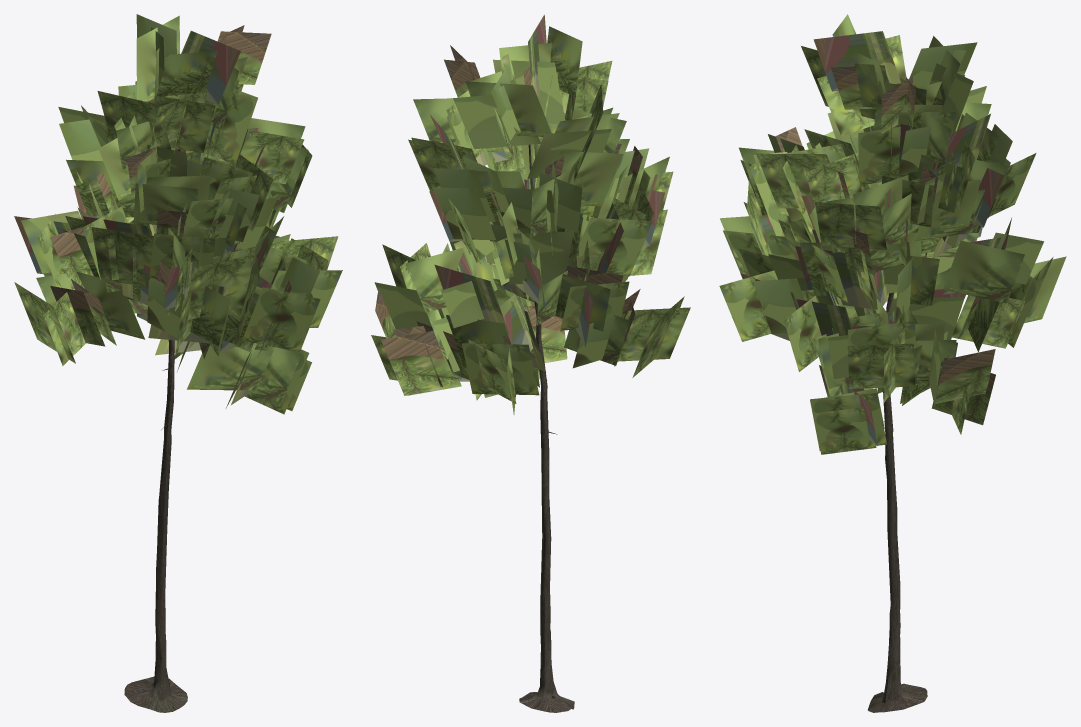
The model's file is fir-mid.glb.
3 views of the same model, side by side, from view 1: azimuth 30°, elevation 25°; view 2: azimuth 150°, elevation 25°; view 3: azimuth 270°, elevation 25° (orthographic). The views are drawn at different scales.
Size of the model in its own units: 7.18 by 15.05 by 6.86.
Materials: 2 (2 with a texture image).
